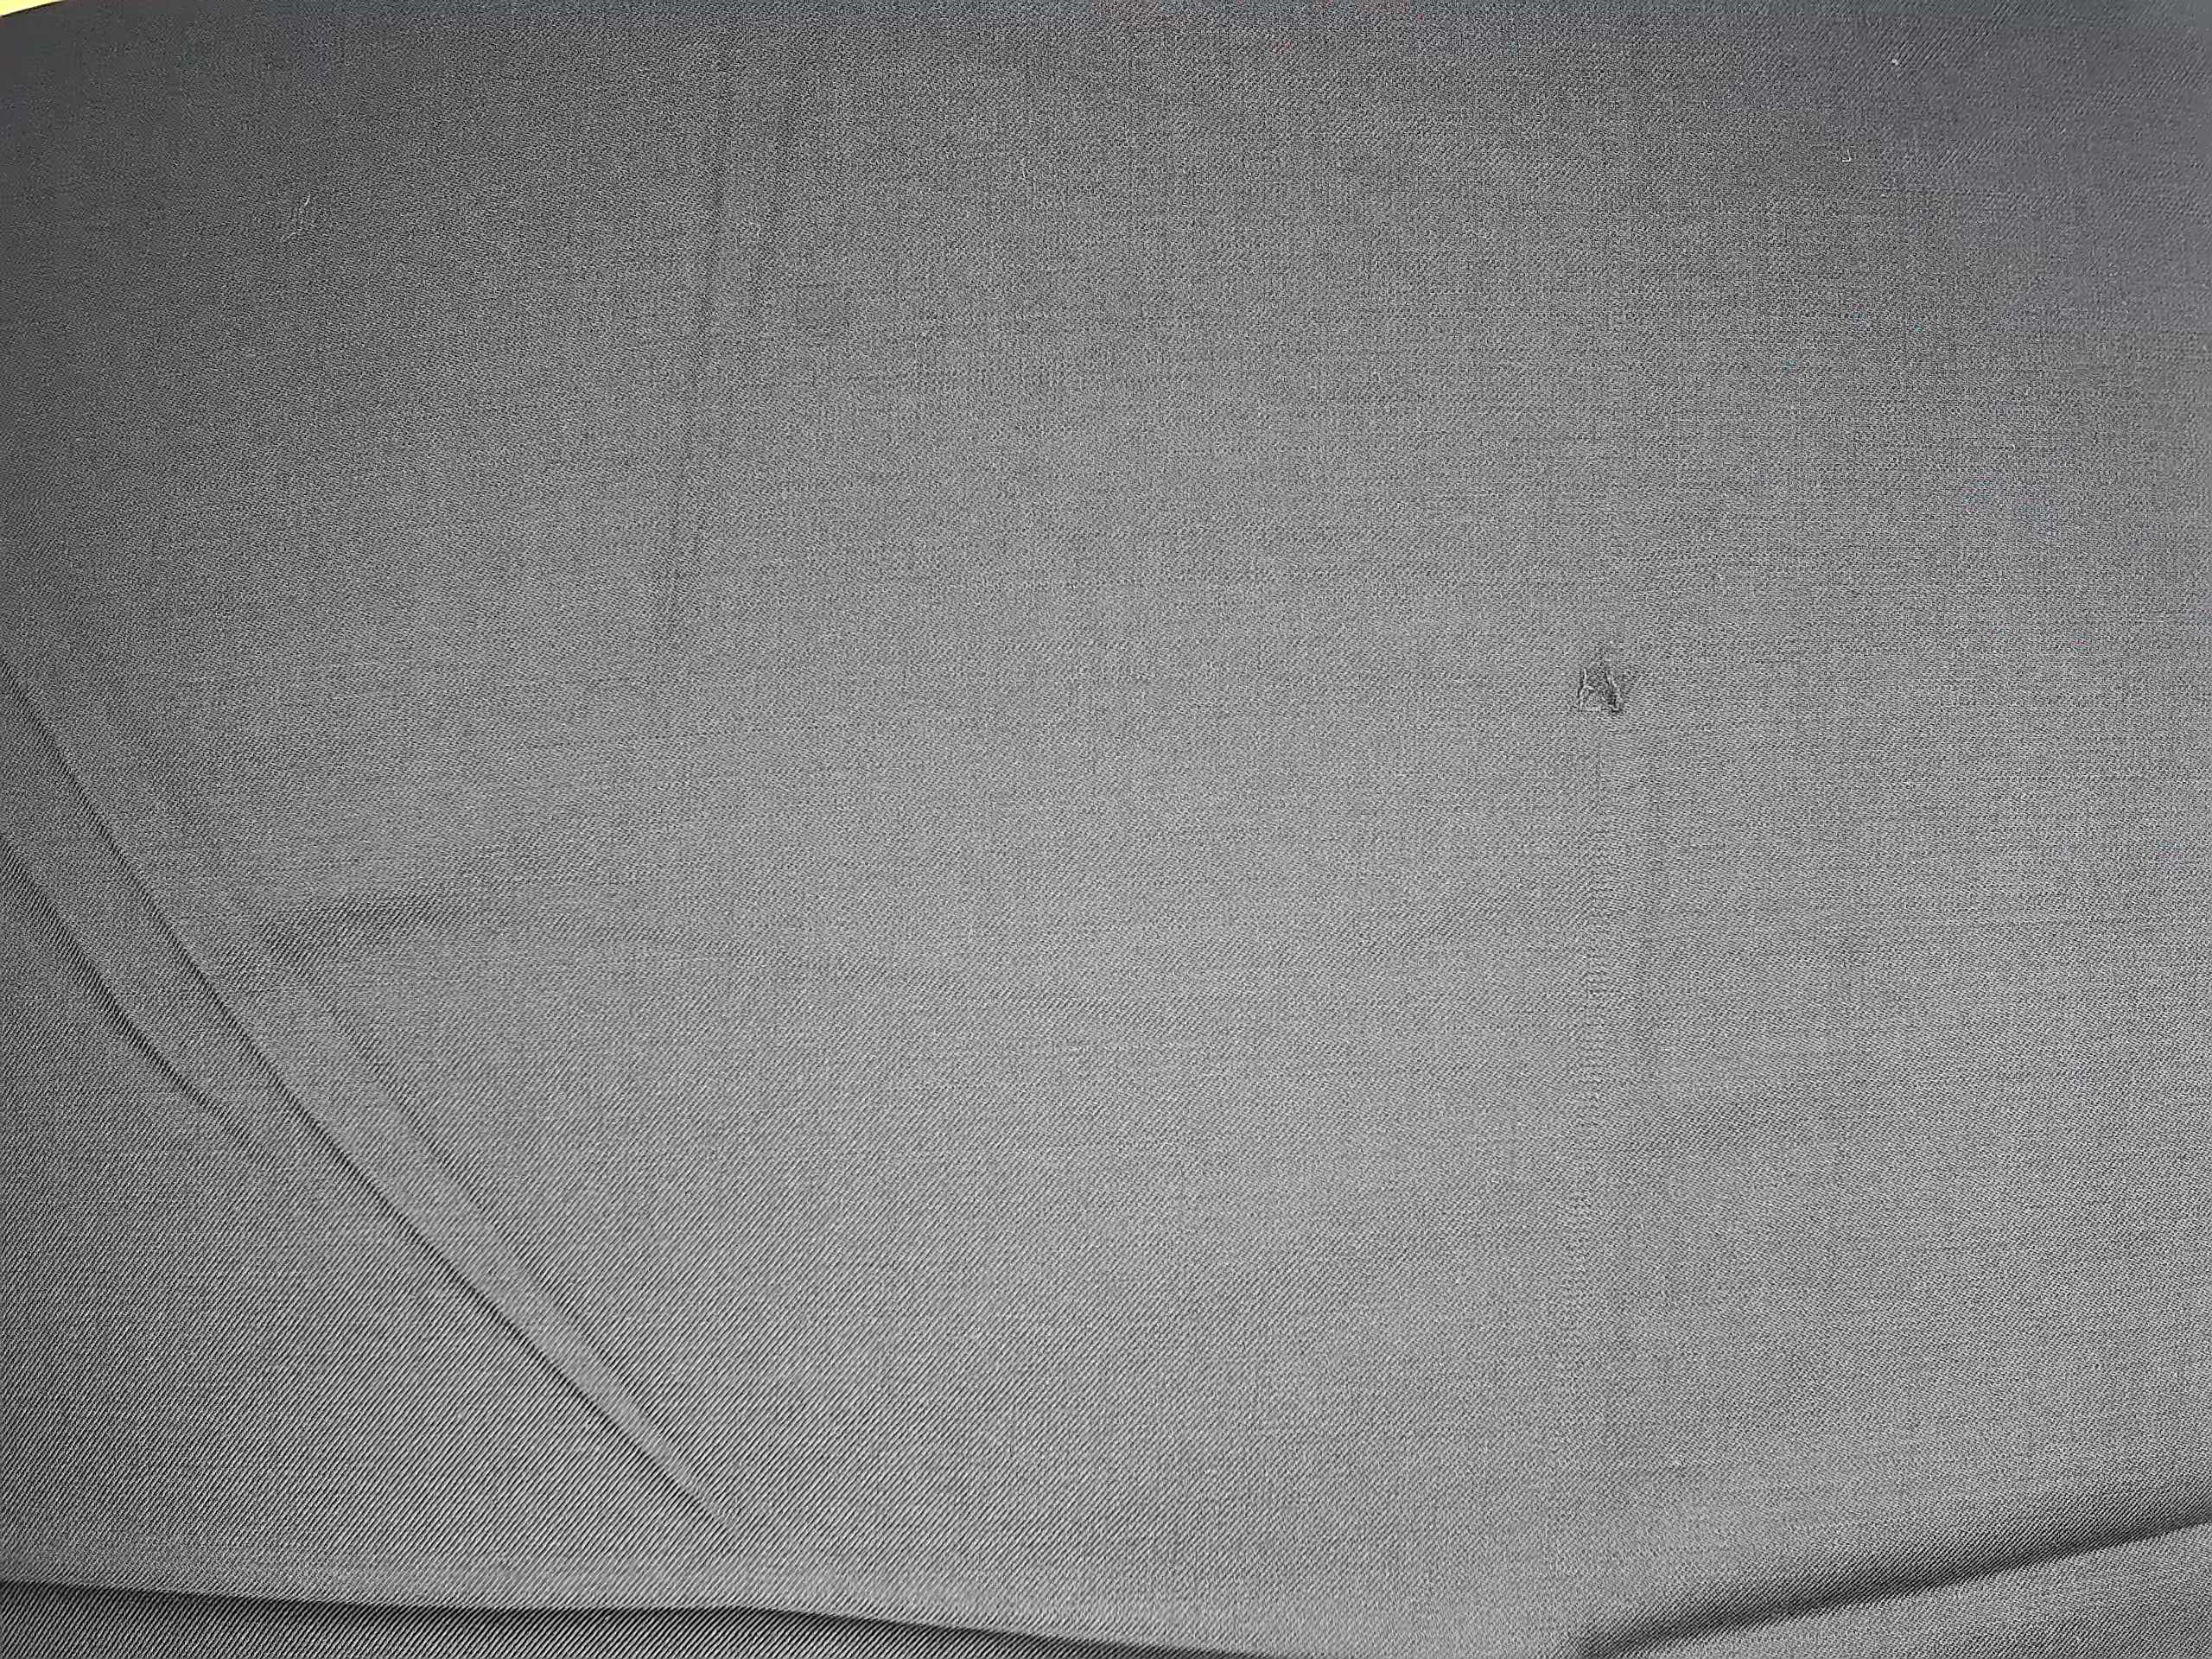hanging-warp: (1547, 633, 1646, 1474)
